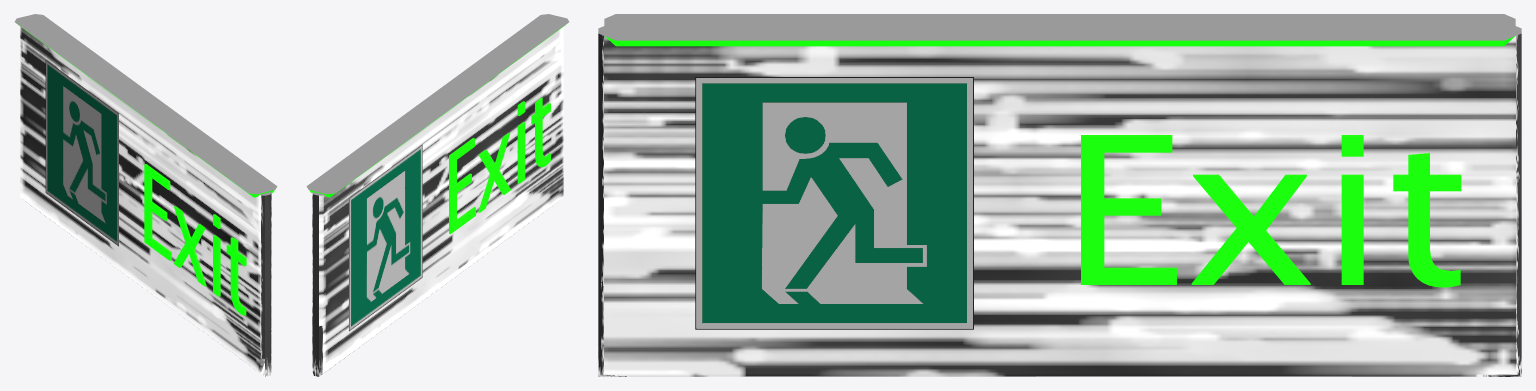
File: exitsign2.fbx
The picture shows the model from 3 angles, left to right: view 1: azimuth 30°, elevation 25°; view 2: azimuth 150°, elevation 25°; view 3: azimuth 270°, elevation 25°; orthographic projection. The views are drawn at different scales.
Visible parts, largest first — view 1: ExitSign, Cube__1_; view 2: ExitSign, Cube__1_; view 3: ExitSign, Cube.
Boxes of the visible parts, x1,y1,x2,y2 form: ExitSign: (14, 14, 277, 376); Cube__1_: (45, 60, 118, 246); ExitSign: (306, 14, 569, 376); Cube__1_: (349, 144, 422, 331); ExitSign: (598, 14, 1521, 376); Cube: (695, 77, 973, 329).
Size of the model in its own units: 27.1 by 164 by 396.
